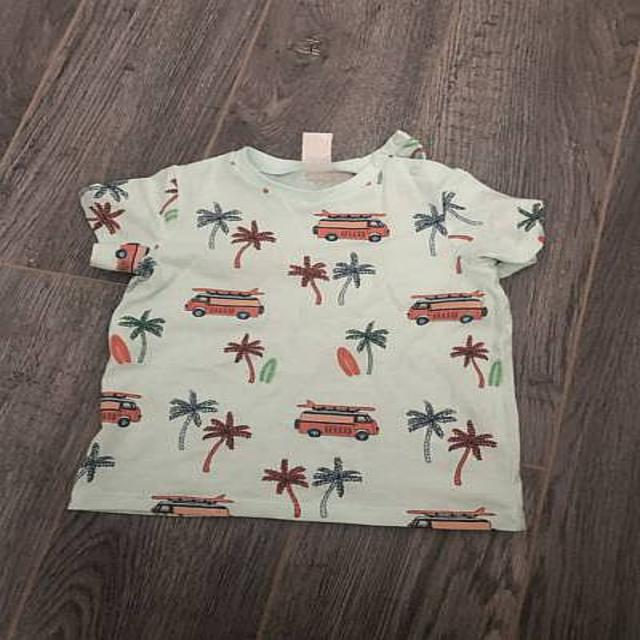T_SHIRT: (64, 125, 558, 542)
